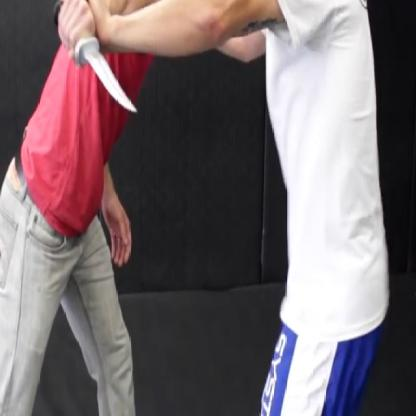knife: (49, 0, 144, 122)
